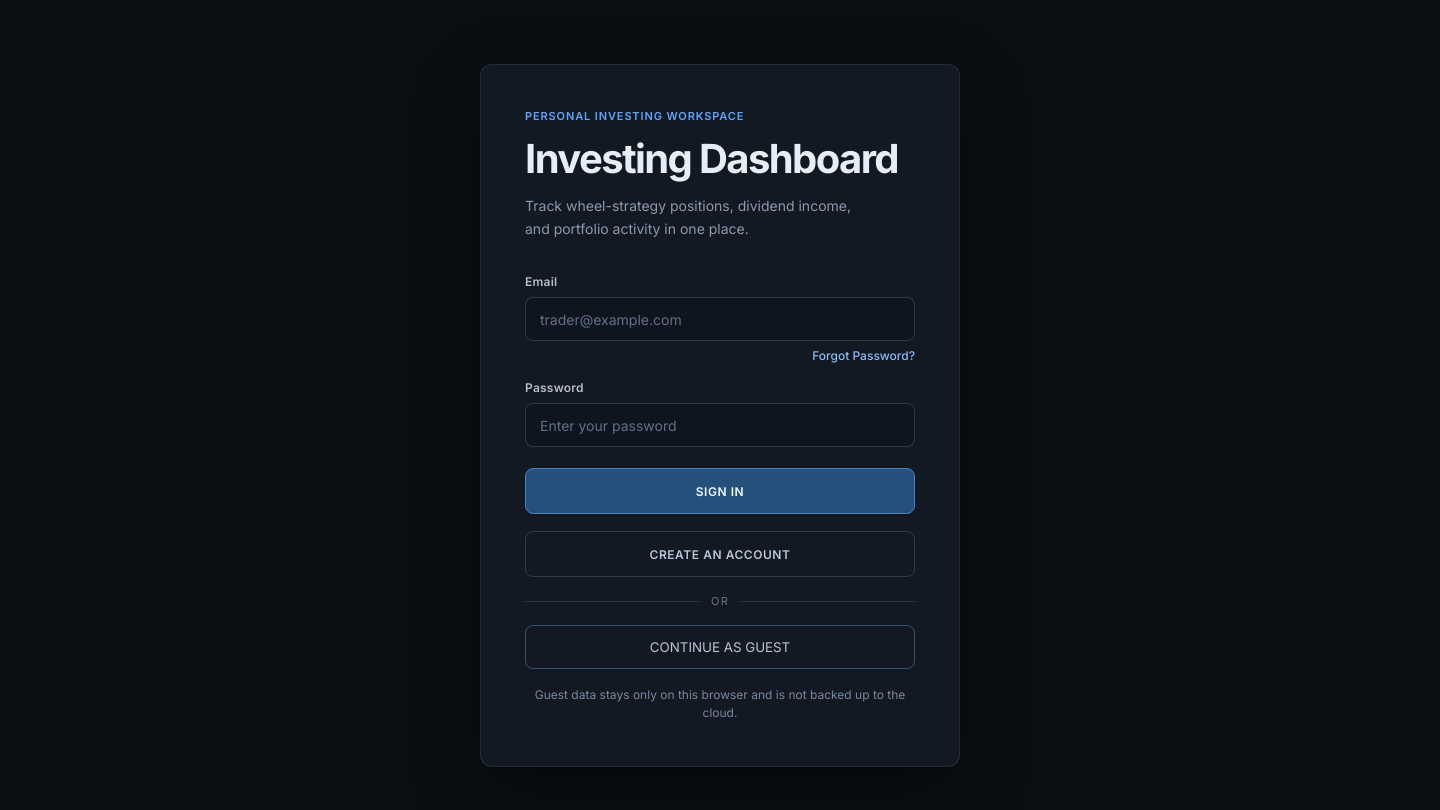
Test: handles a failed reset request with a friendly generic message
The width and height of the screenshot is (1440, 810).
Step 1. Click the button "Forgot Password?" → x=864, y=356, box [812,348,915,363]
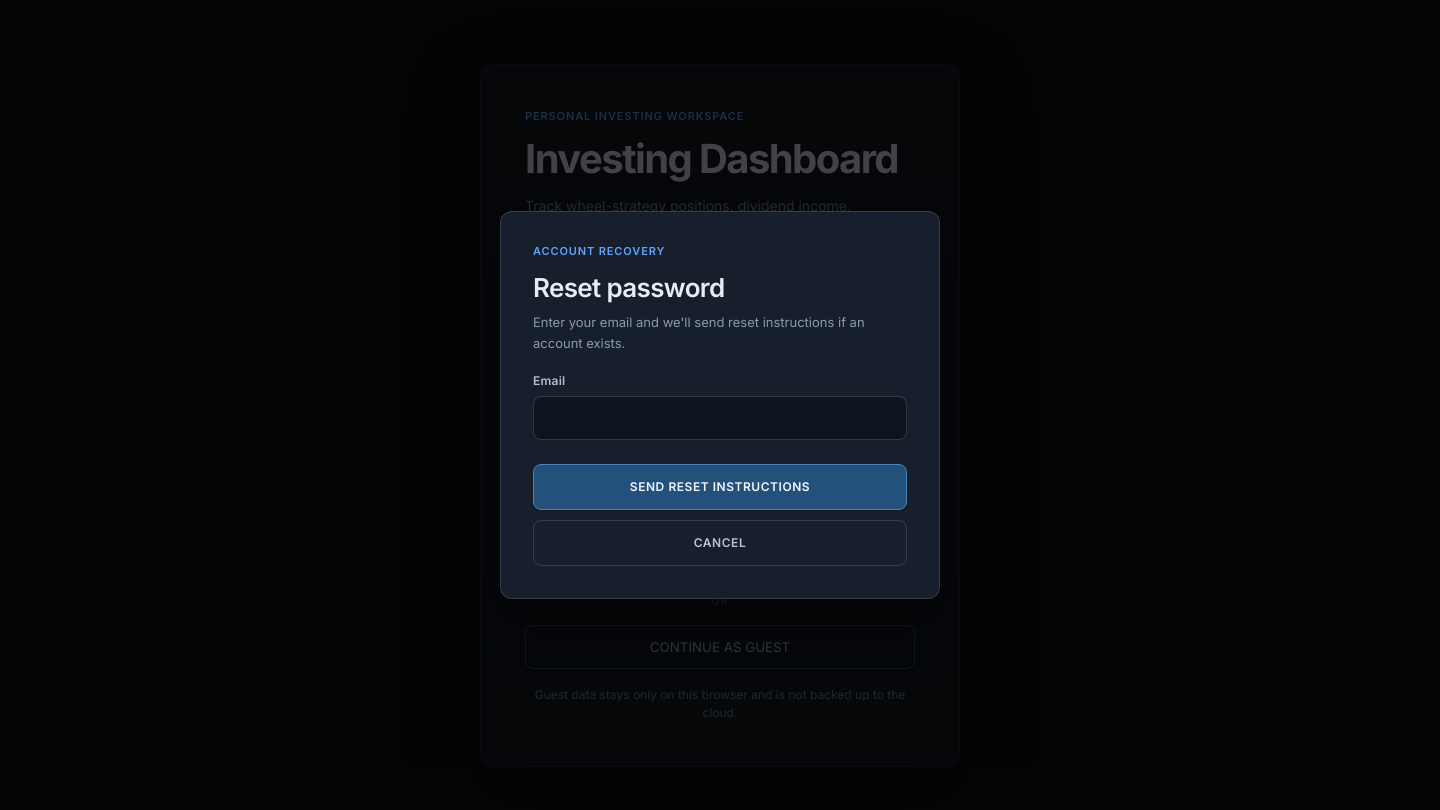
Step 2. Type "missing@example.com" into the field labelled "Email" → x=720, y=418, box [533,396,907,440]
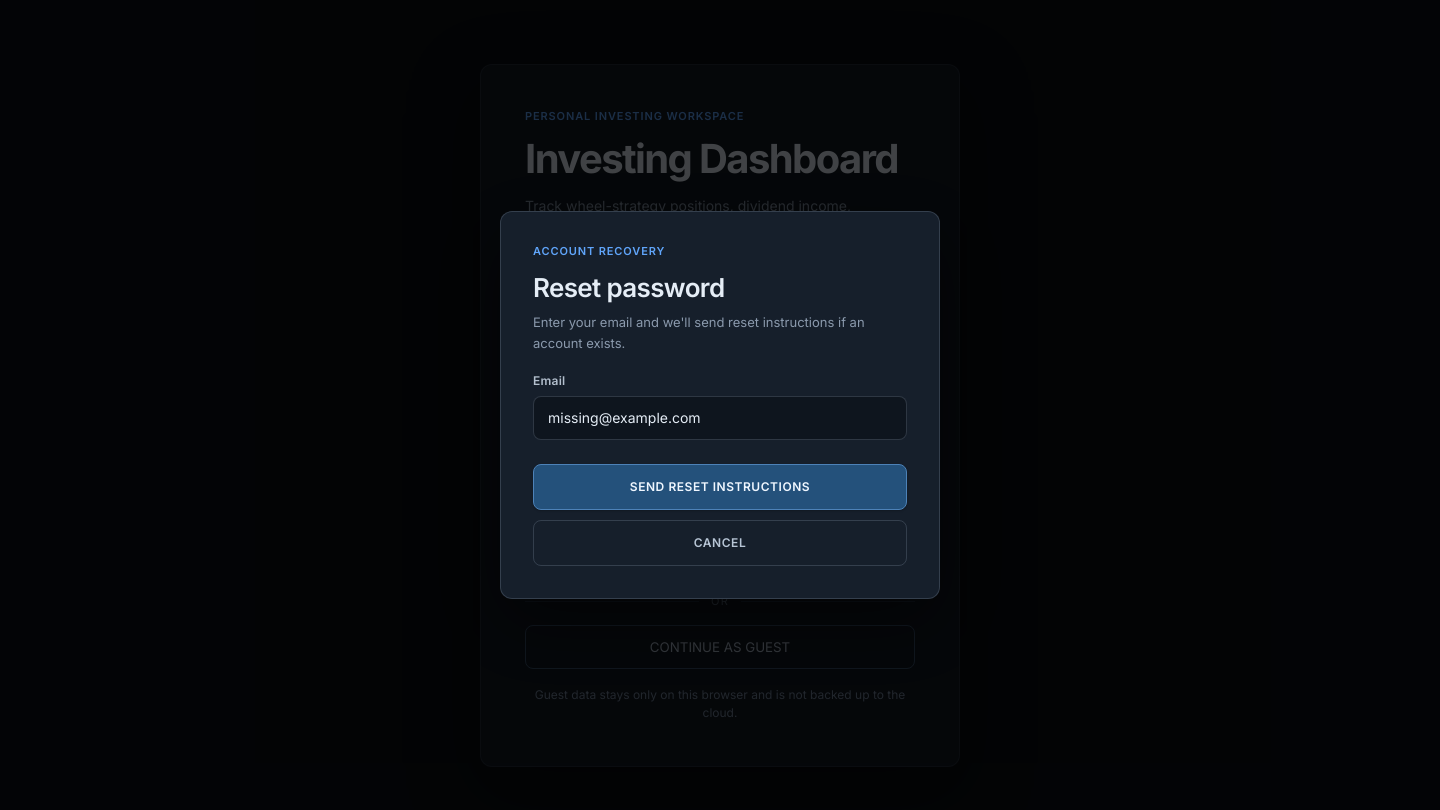
Step 3. Click the button "SEND RESET INSTRUCTIONS" → x=720, y=487, box [533,464,907,510]
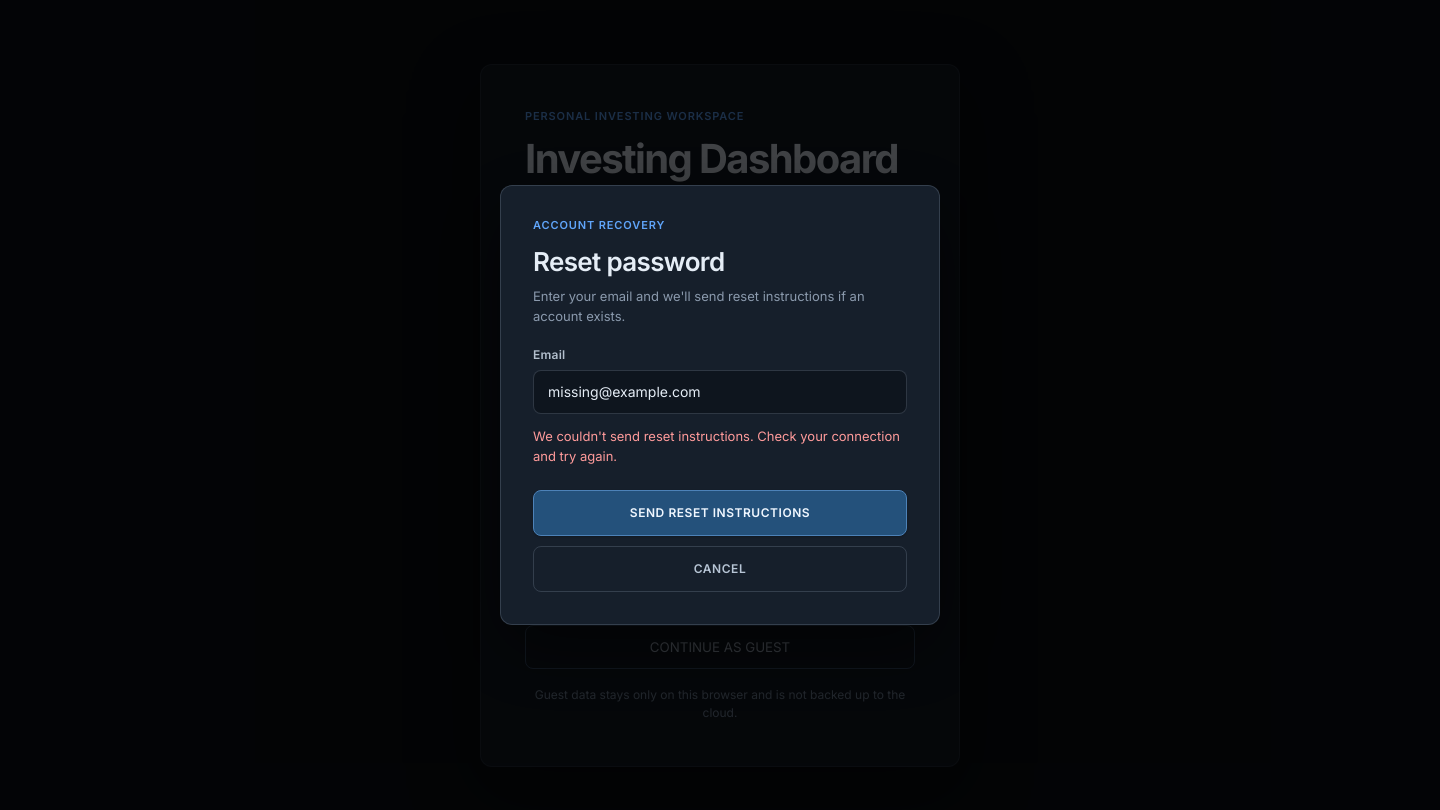
Check: the message does not show "user not found", box [533,426,907,466]
Check: the message reads "We couldn't send reset instructions. Check your connection and try again.", box [533,428,900,464]
